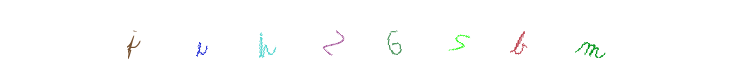2: (334, 0, 414, 80)
5: (335, 0, 415, 80)
6: (334, 0, 414, 80)
B: (432, 0, 512, 80)
E: (261, 0, 341, 80)
H: (304, 0, 384, 80)
J: (161, 0, 241, 80)
M: (551, 0, 631, 80)
